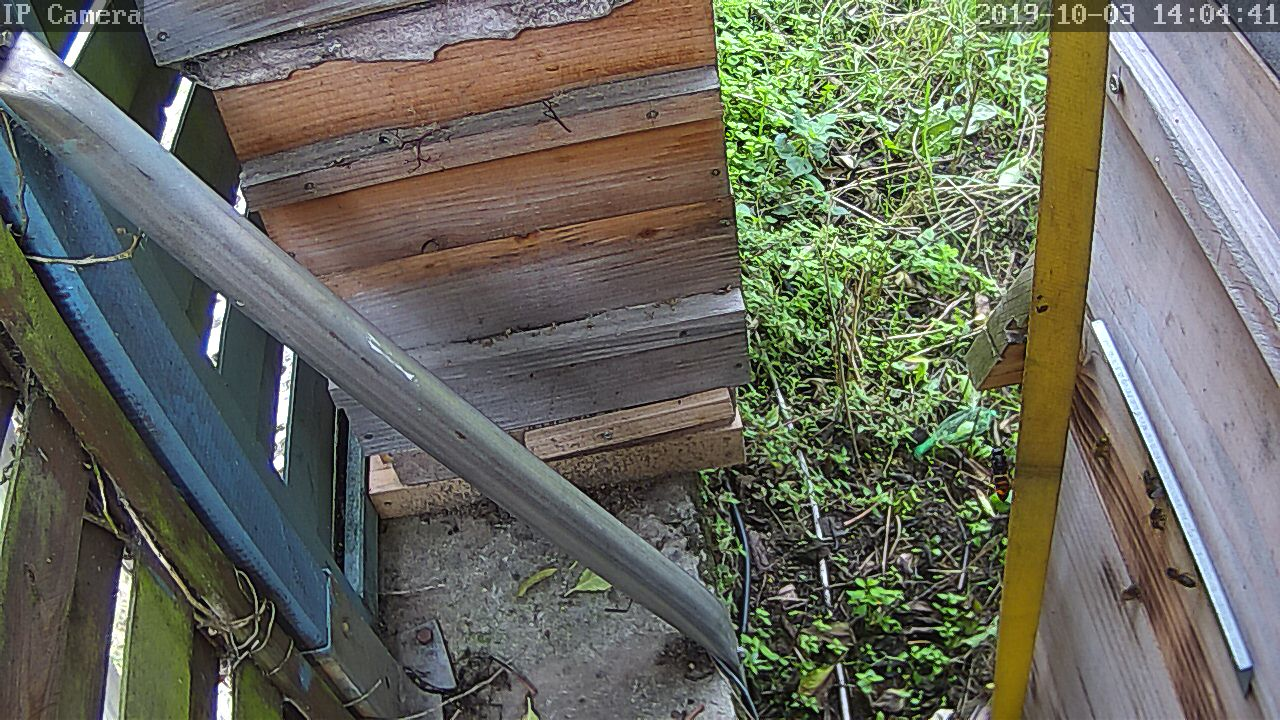bee: (1163, 557, 1204, 594), (1144, 502, 1173, 538), (1139, 465, 1164, 506)
hornet: (976, 439, 1025, 501)
